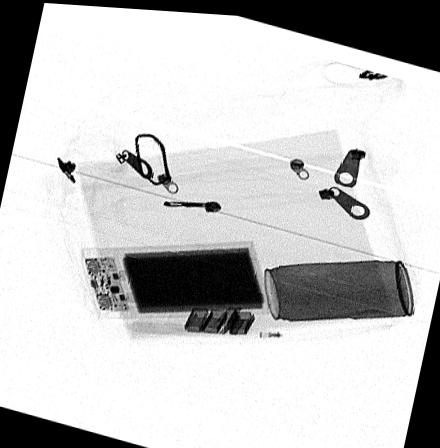Powerbank: (80, 237, 268, 314)
